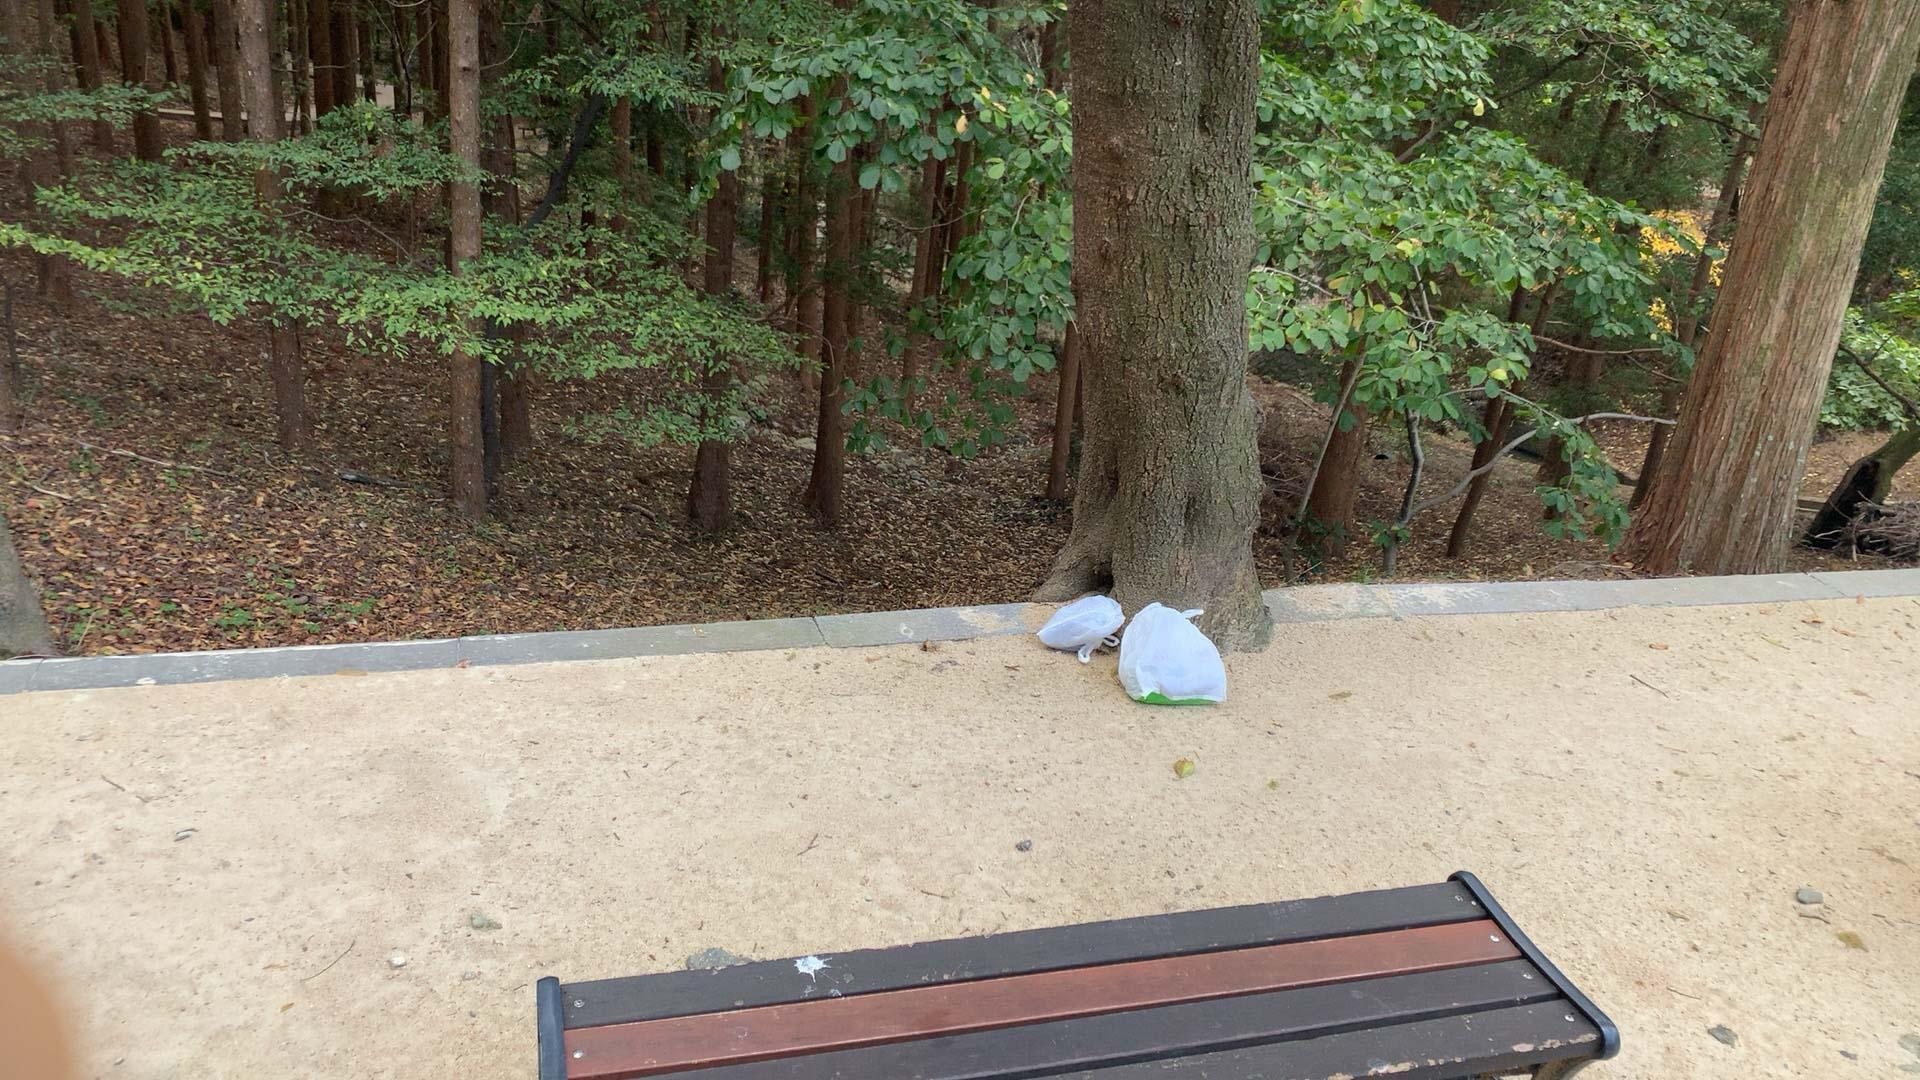white_bag: (1104, 597, 1236, 717), (1033, 585, 1124, 666)
